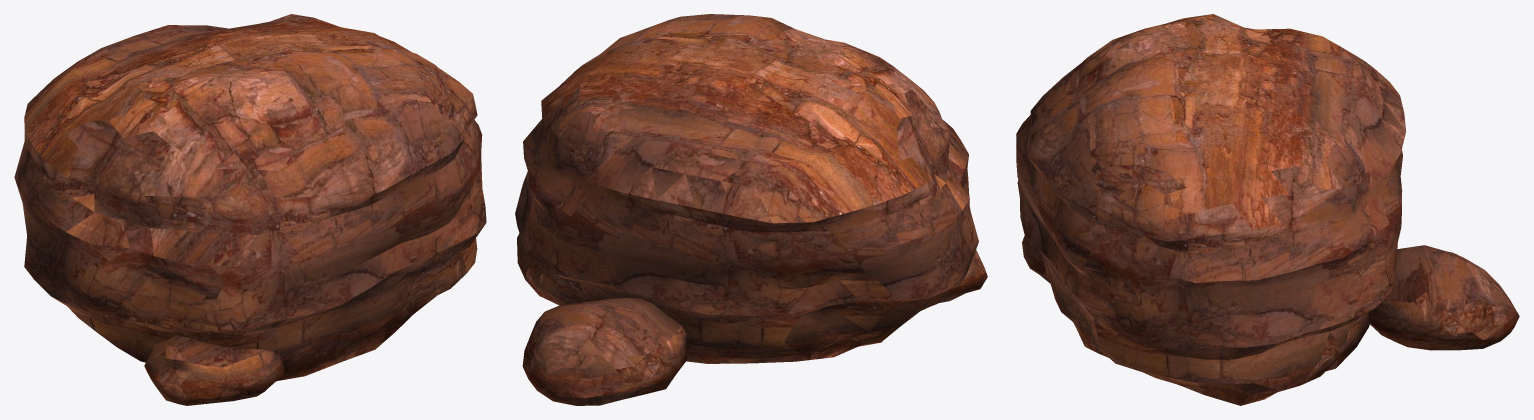
The model's file is boulder_02.glb.
3 renders of one model, left to right at view 1: azimuth 30°, elevation 25°; view 2: azimuth 150°, elevation 25°; view 3: azimuth 270°, elevation 25°, orthographic. The views are drawn at different scales.
Visible parts, largest first — view 1: boulder_02; view 2: boulder_02; view 3: boulder_02.
Part boxes in pixels (<box>): boulder_02: <box>14,14,486,405</box>; boulder_02: <box>515,14,987,405</box>; boulder_02: <box>1016,14,1519,405</box>.
Size of the model in its own units: 4.6 by 2.77 by 4.81.
1 material, 1 textured.
